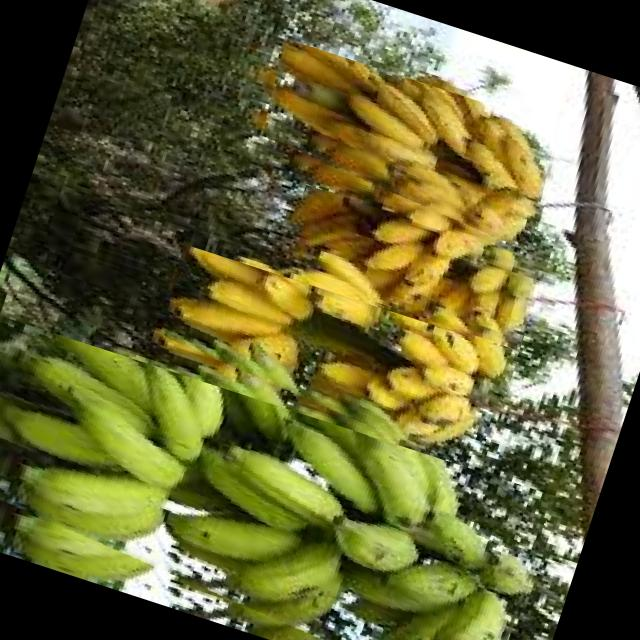Organic: (0, 311, 561, 640), (142, 243, 518, 474), (240, 37, 568, 253), (276, 185, 546, 351)
